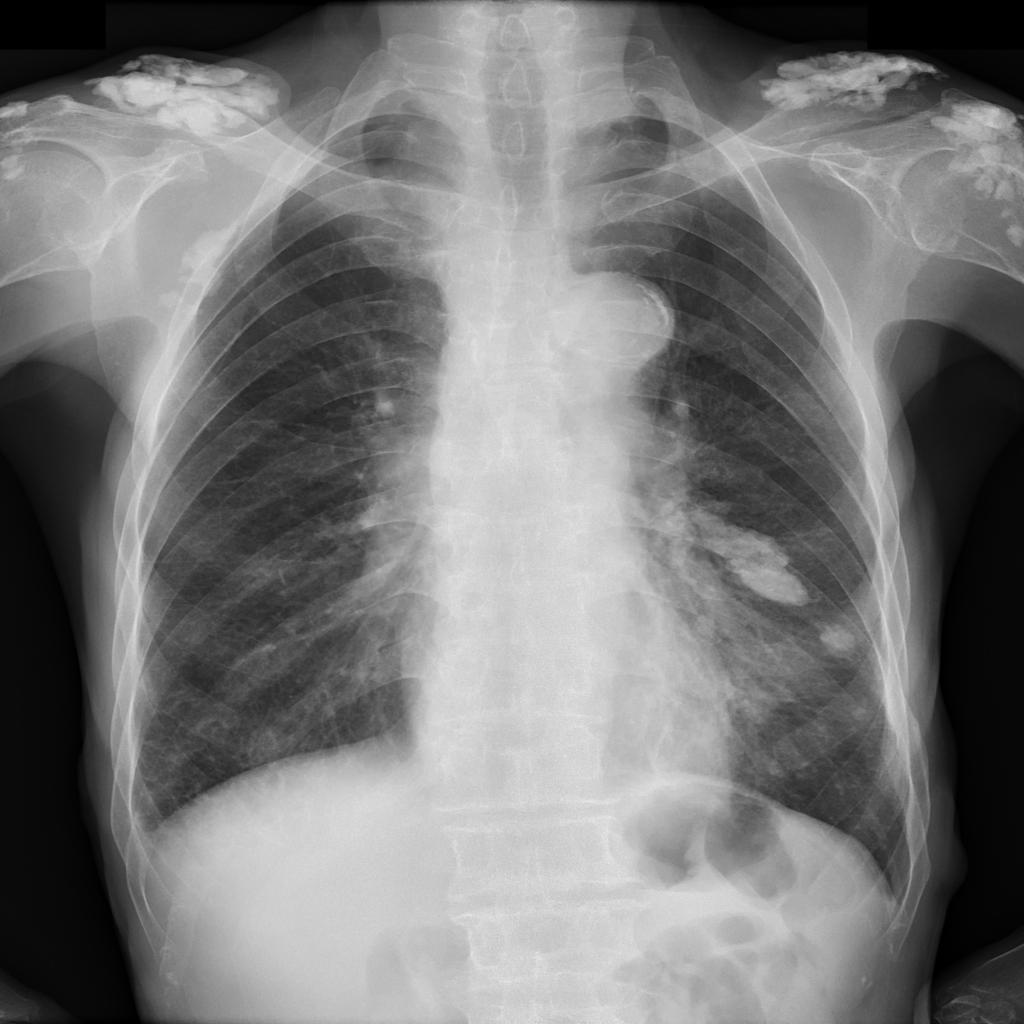Nodule: (812, 623, 860, 659)
